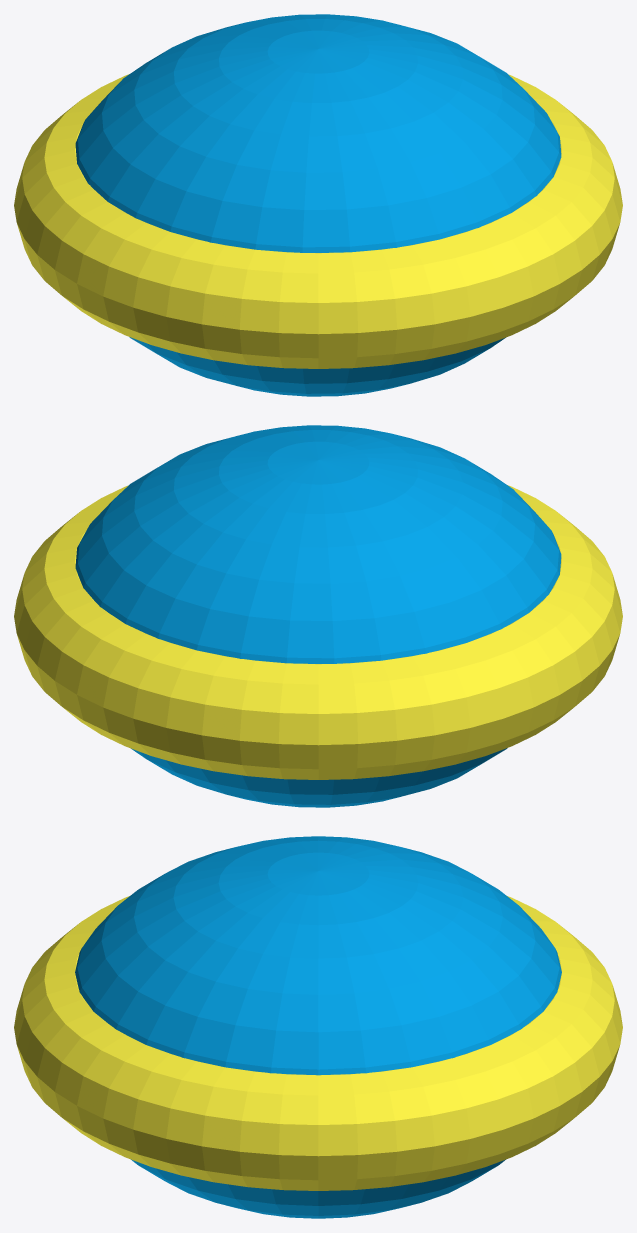
The model's file is spaceShip.obj.
3 views of the same model, one above another, from view 1: azimuth 30°, elevation 25°; view 2: azimuth 150°, elevation 25°; view 3: azimuth 270°, elevation 25° (orthographic).
Parts seen in each view (by area): view 1: Torus; view 2: Torus; view 3: Torus.
Part boxes in pixels (bbox=[...]): Torus: bbox=[14, 14, 622, 396]; Torus: bbox=[14, 425, 622, 807]; Torus: bbox=[14, 836, 622, 1218].
Size of the model in its own units: 2.33 by 1.32 by 2.33.
Materials: 2 (2 with a texture image).
